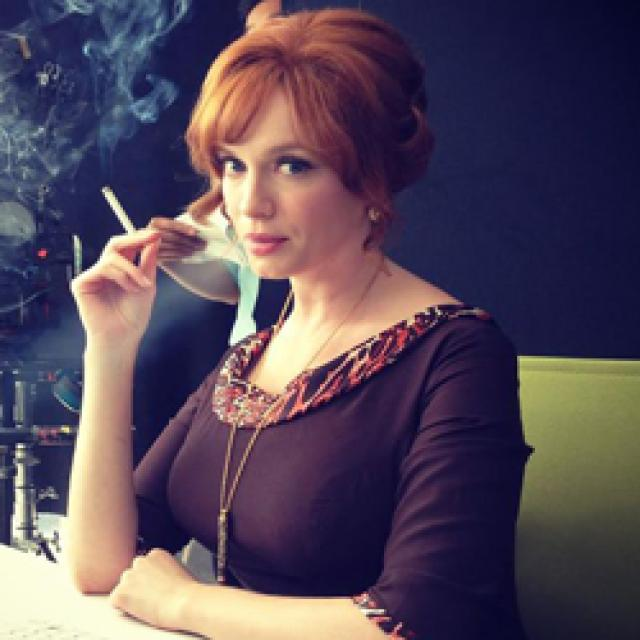Smooking: (96, 171, 141, 233)
